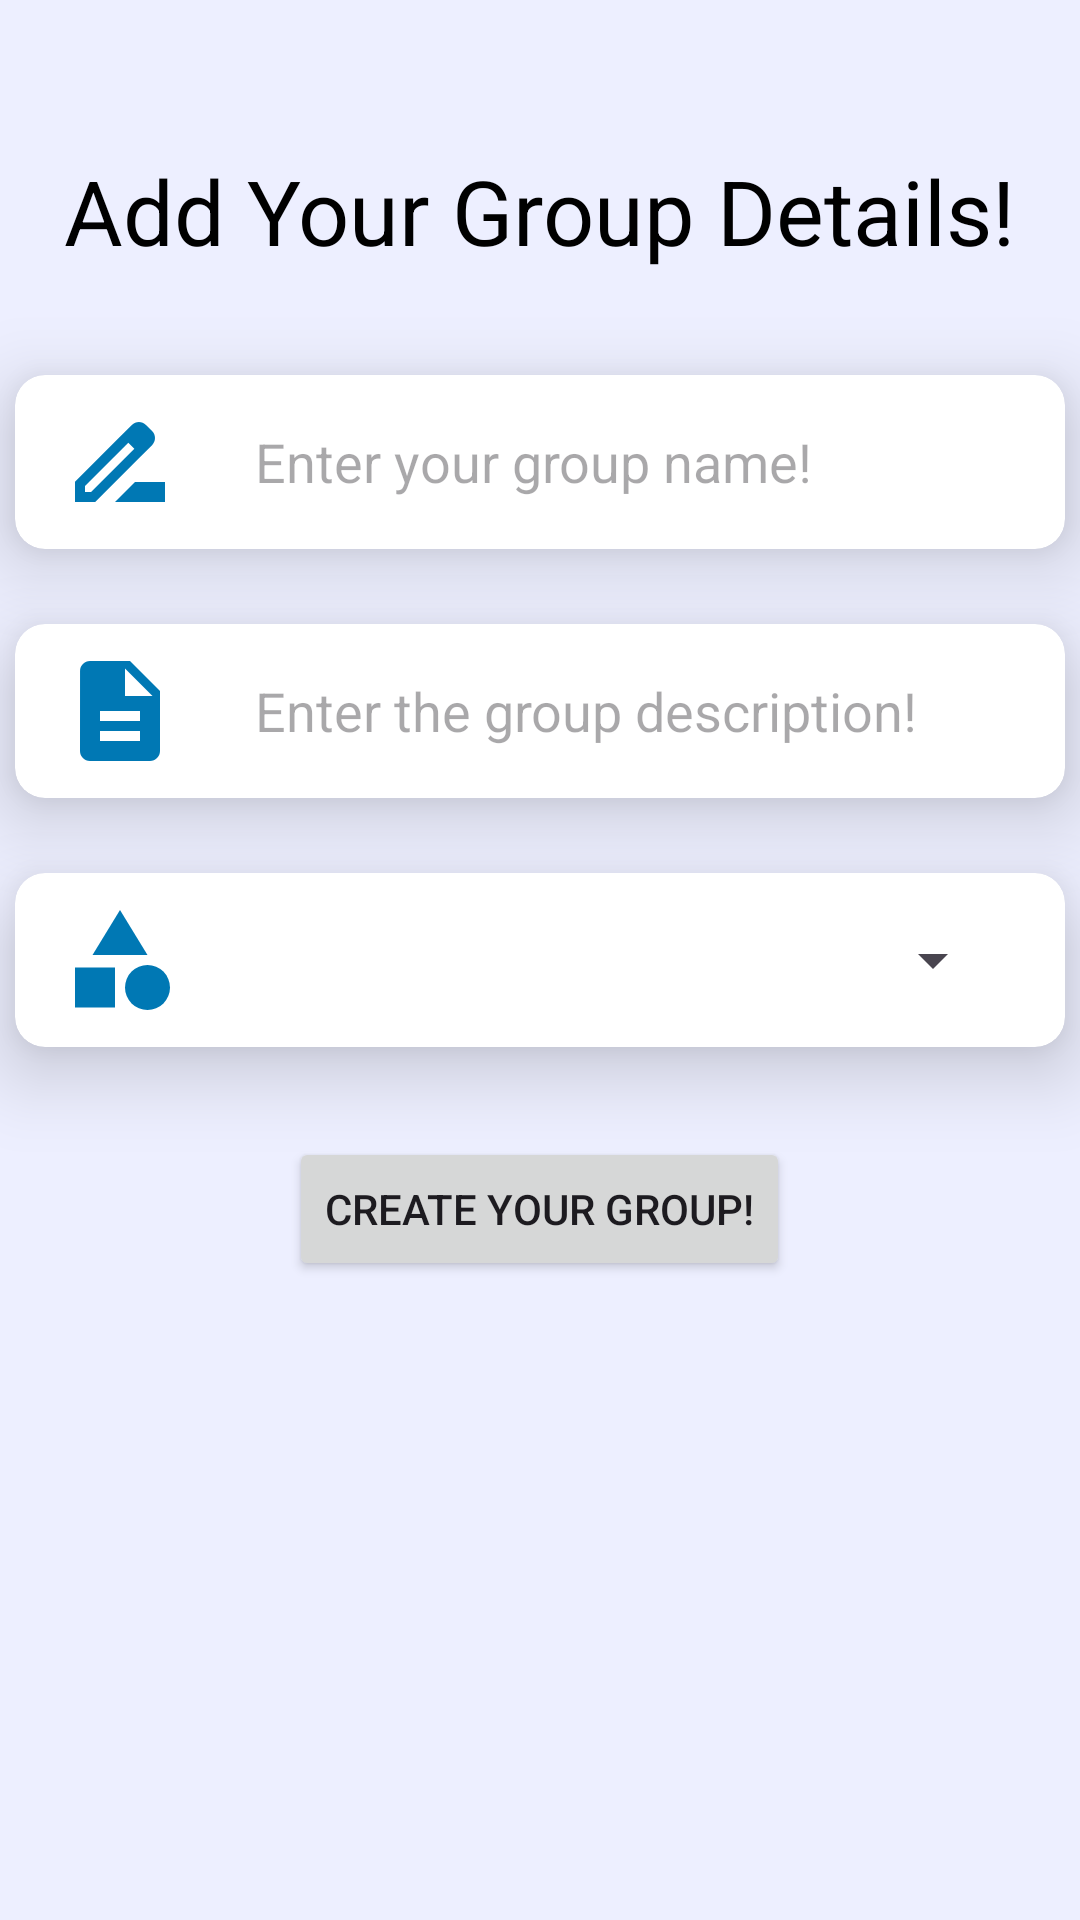

Named icons in this screenshot (1080w x 1920h) and their bounding boxes, Rect(x1, y1, x2, y2):
category: Rect(75, 910, 170, 1010)
descriptionicon: Rect(80, 661, 160, 761)
